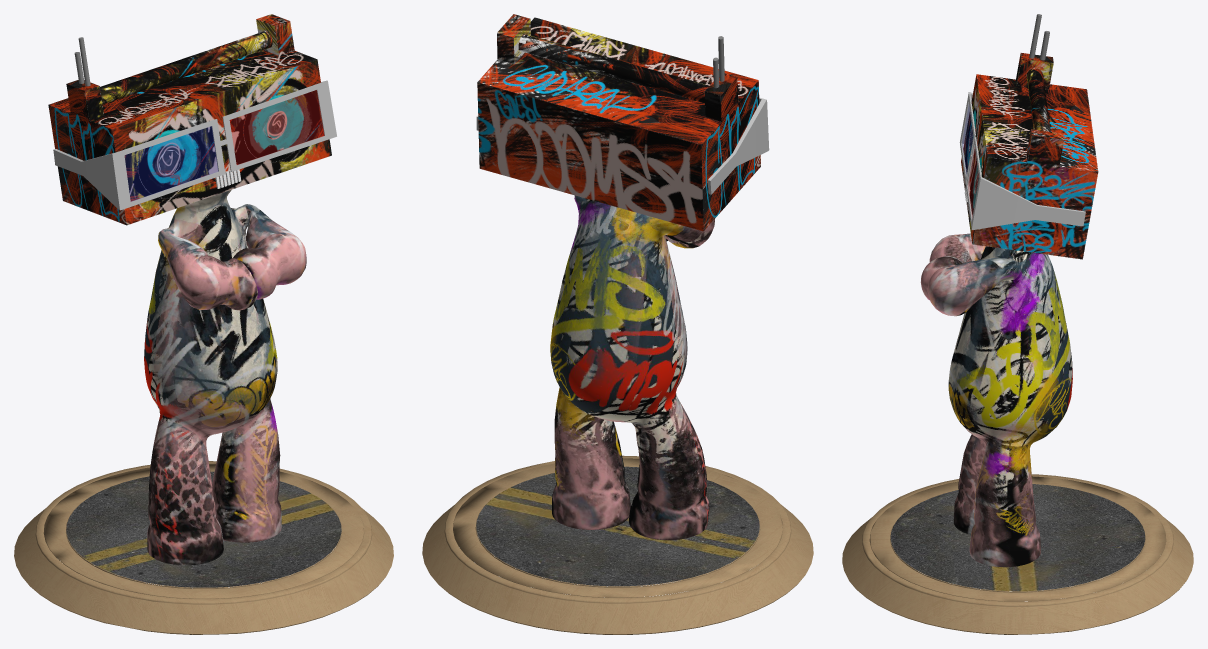
The picture shows the model from 3 angles, left to right: view 1: azimuth 30°, elevation 25°; view 2: azimuth 150°, elevation 25°; view 3: azimuth 270°, elevation 25°; orthographic projection. The views are drawn at different scales.
Parts seen in each view (by area): view 1: BBody; view 2: BBody; view 3: BBody.
Boxes of the visible parts, <box> form: BBody: <box>14,14,393,634</box>; BBody: <box>422,14,813,634</box>; BBody: <box>842,14,1193,634</box>.
Bounding box in the file's own units: 1.45 × 2.25 × 1.45.
Materials: 9 (4 with a texture image).
